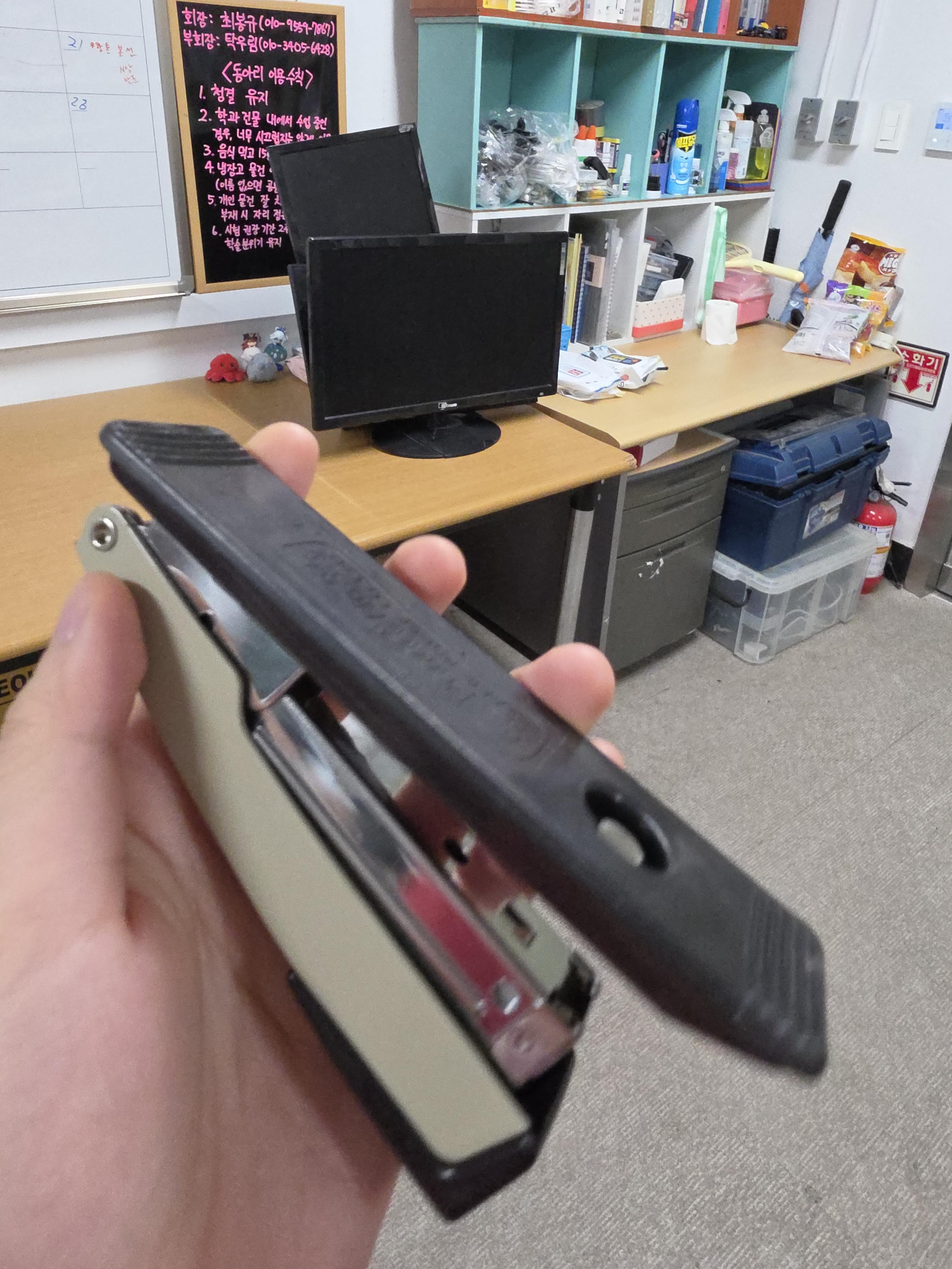stapler: (74, 418, 830, 1223)
tissue: (702, 299, 739, 346)
